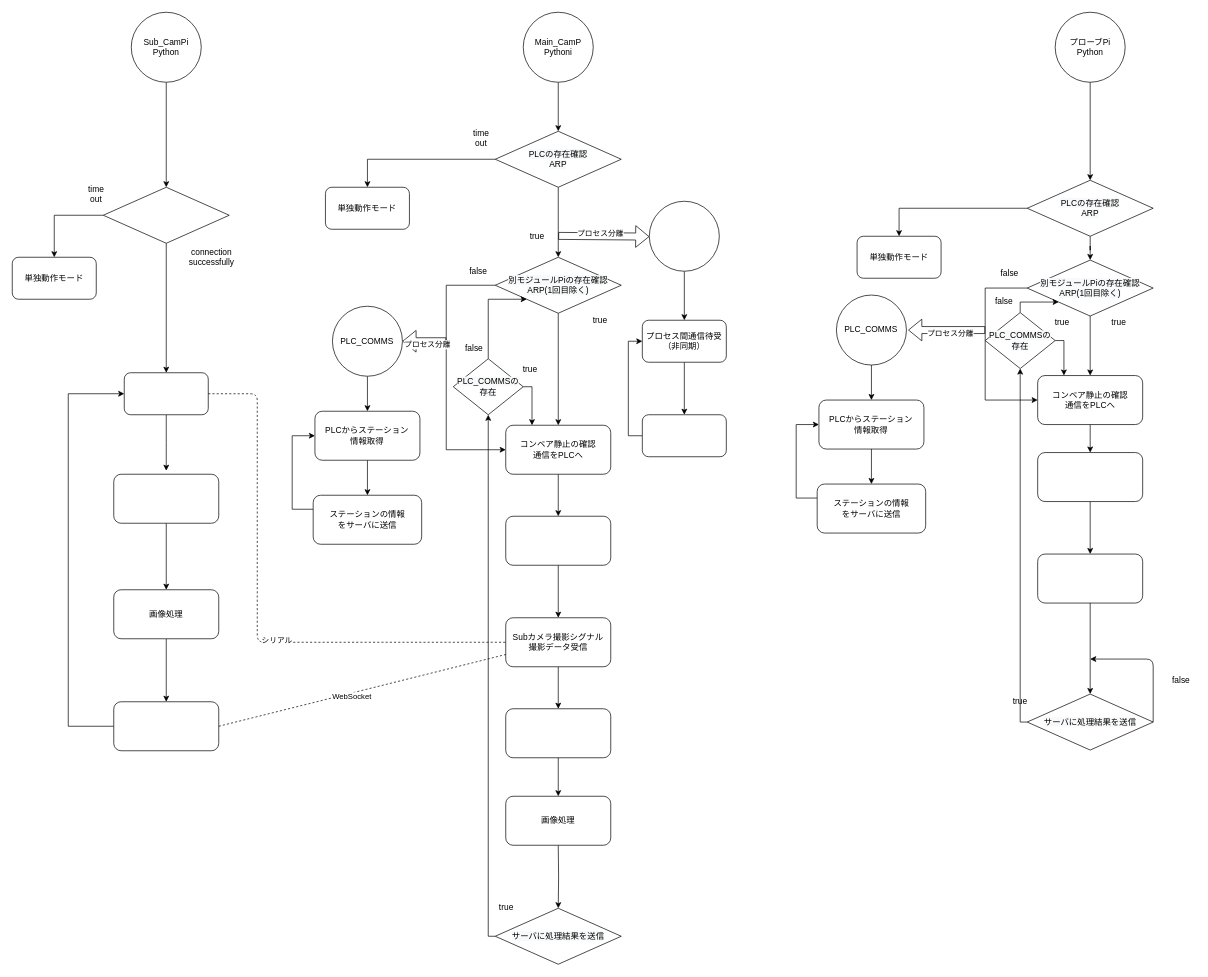
This 1208x977 diagram has some shape labels left out. The box of each missing label's shape, as (x1, y1, x2, y2) in pixels:
Main_CamPi からの シリアル接続待ち IP受信: (103, 187, 229, 243)
VideoOutputPi: (649, 201, 719, 271)
カメラリアルタイム撮影: (642, 414, 726, 457)
プローブで測定: (1037, 452, 1143, 502)
リアルタイム撮影の プロセスと共有している オブジェクトを参照: (505, 516, 611, 565)
撮影: (113, 474, 219, 523)
撮影シグナル待受: (124, 372, 208, 415)
撮影完了をPLCに知らせる: (505, 708, 611, 758)
測定完了をPLCに知らせる: (1037, 553, 1143, 603)
結果をメインPiに転送: (113, 701, 219, 751)
